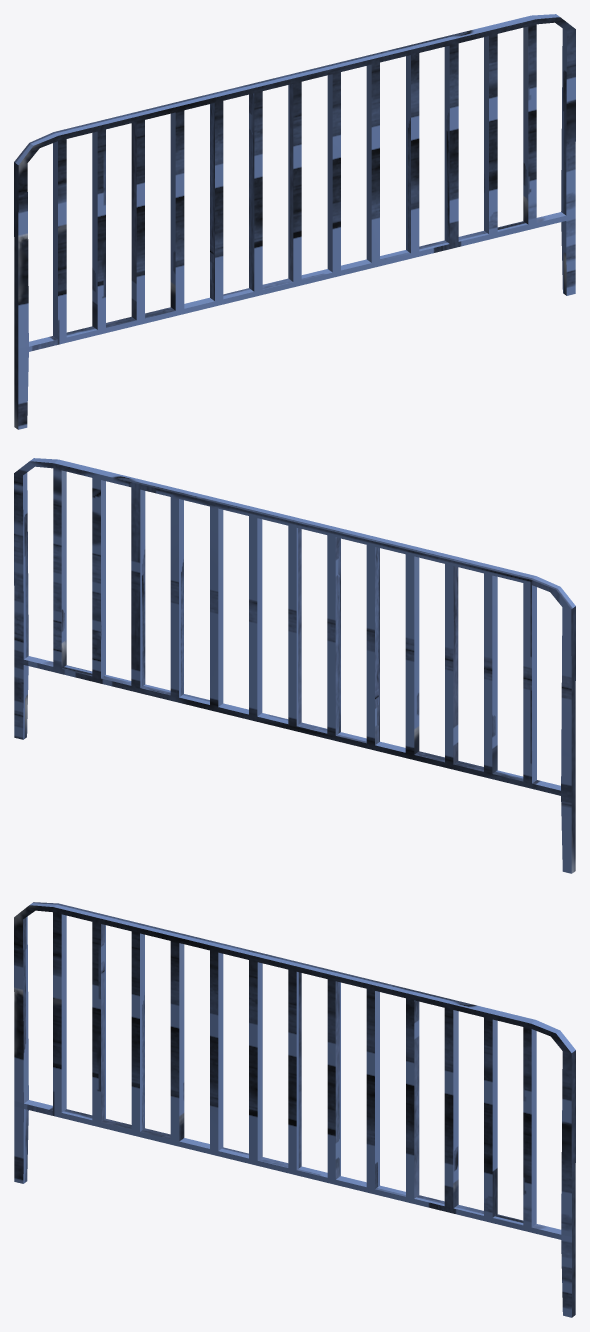
The model's file is barrage, 6.fbx.
The picture shows the model from 3 angles, top to bottom: view 1: azimuth 30°, elevation 25°; view 2: azimuth 150°, elevation 25°; view 3: azimuth 330°, elevation 25°; orthographic projection.
Visible parts, largest first — view 1: Cube; view 2: Cube; view 3: Cube.
Boxes of the visible parts, x1,y1,x2,y2 form: Cube: (14,14,575,429); Cube: (14,458,575,873); Cube: (14,902,575,1317).
Size of the model in its own units: 0.6906 by 0.3372 by 0.0108.
1 material, 1 textured.
